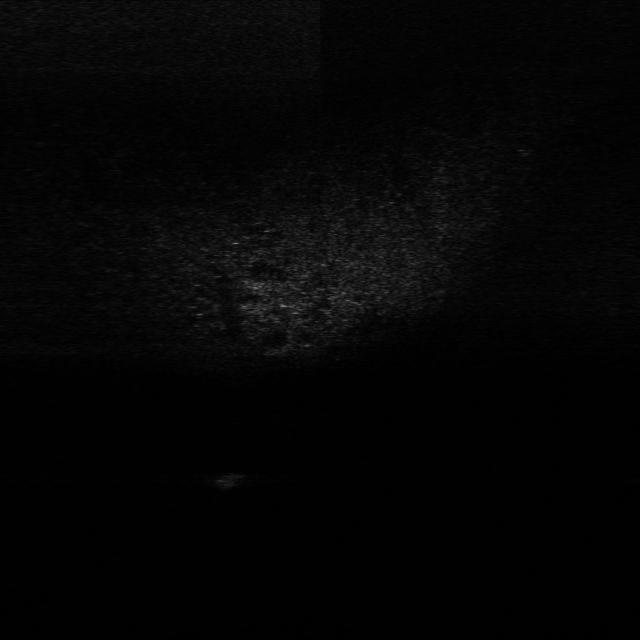cylinder: (213, 468, 243, 491)
